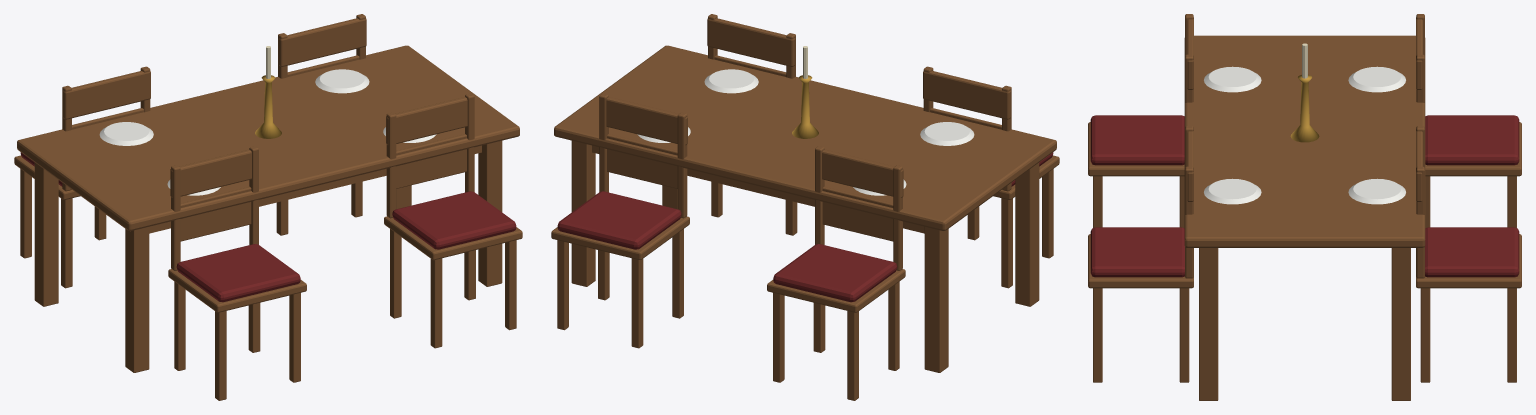
Rendered from dining_set.glb.
The picture shows the model from 3 angles, left to right: view 1: azimuth 30°, elevation 25°; view 2: azimuth 150°, elevation 25°; view 3: azimuth 270°, elevation 25°; orthographic projection. The views are drawn at different scales.
Visible parts, largest first — view 1: dining_set; view 2: dining_set; view 3: dining_set.
Part boxes in pixels (x1=…): dining_set: x1=14, y1=14, x2=522, y2=400; dining_set: x1=551, y1=14, x2=1059, y2=400; dining_set: x1=1088, y1=14, x2=1521, y2=400.
Bounding box in the file's own units: 2 × 1.19 × 1.8.
